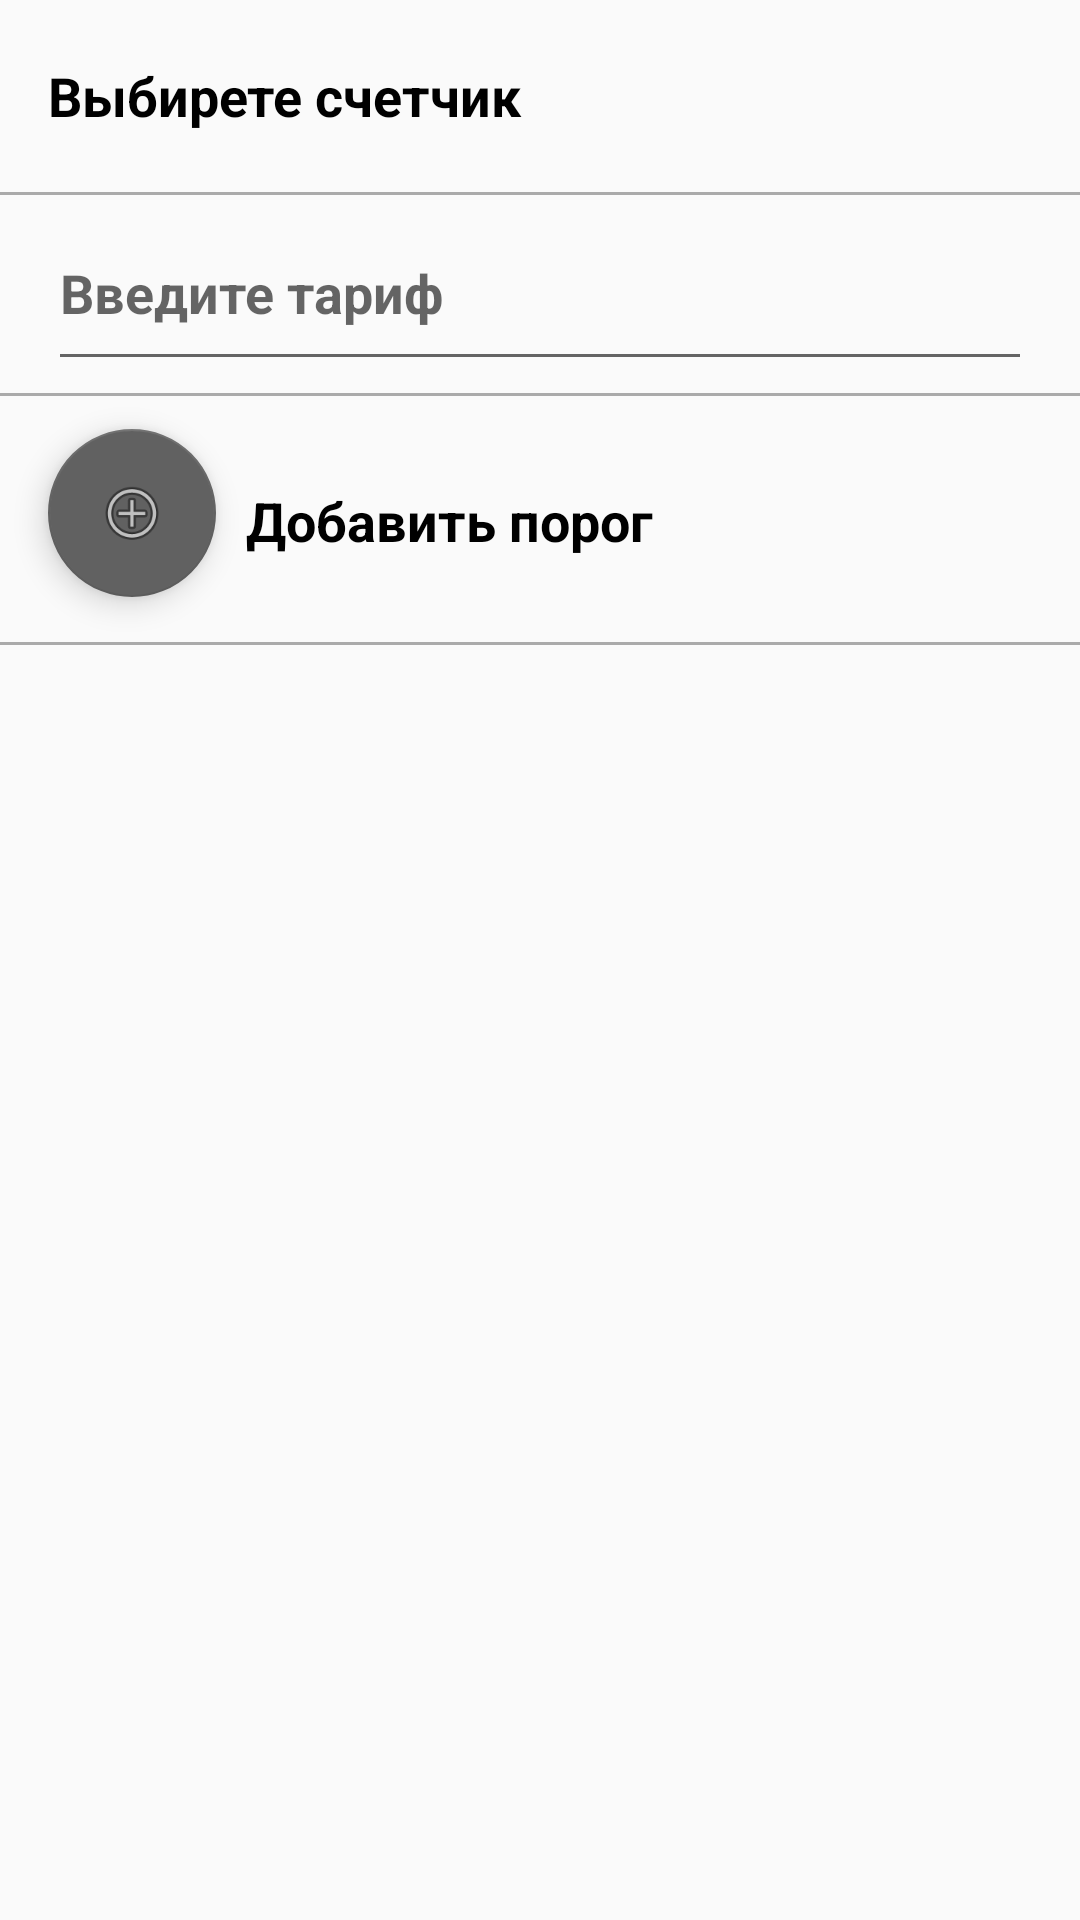

Locate icon controls on the screen. Image size 1080*1920, boxes as box=[x1, y1, x2, y2].
add: box=[48, 429, 216, 597]
